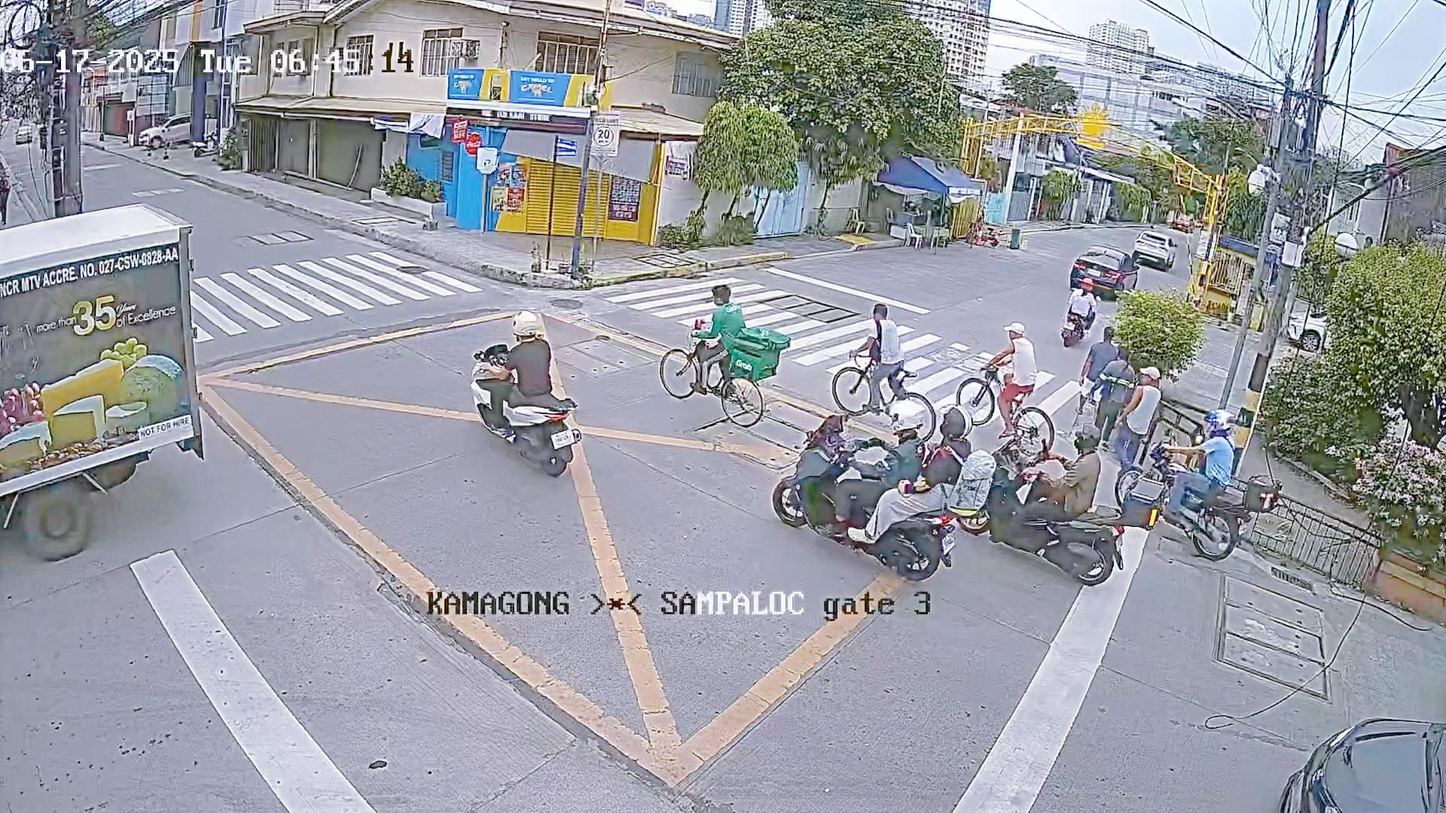Car: (1253, 667, 1446, 813), (1065, 234, 1140, 304), (1133, 226, 1181, 274)
Motor: (785, 399, 992, 603), (964, 416, 1137, 604), (465, 294, 600, 491)
